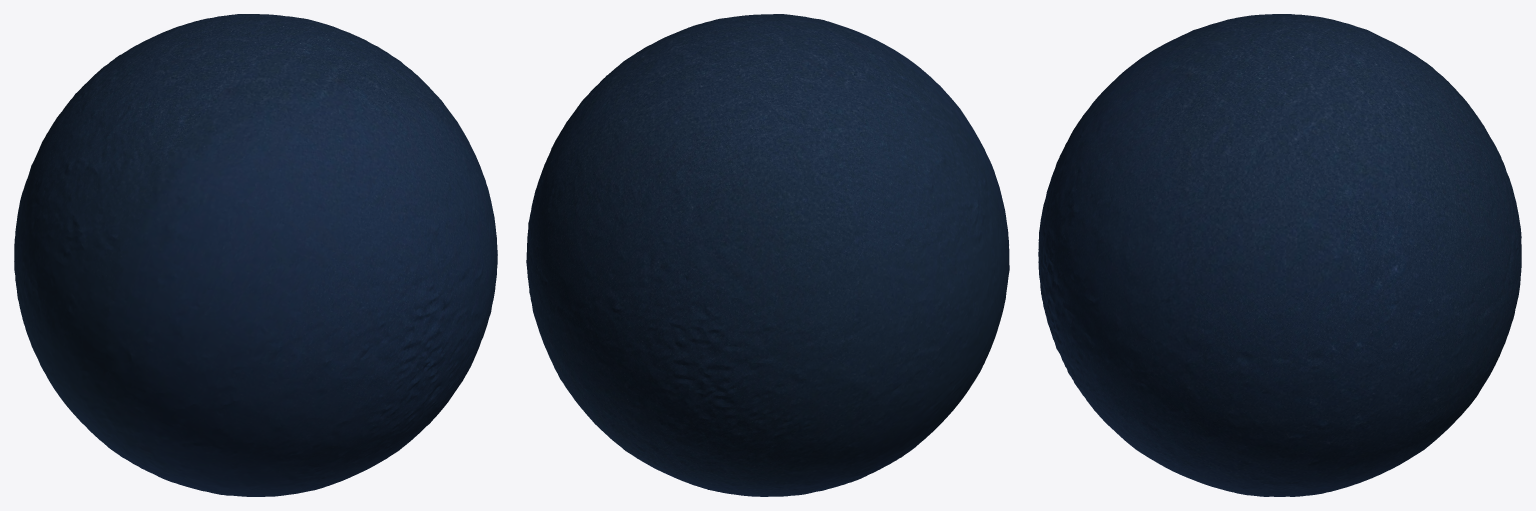
Rendered from project-asteroid-1.glb.
3 views of the same model, side by side, from view 1: azimuth 30°, elevation 25°; view 2: azimuth 150°, elevation 25°; view 3: azimuth 270°, elevation 25° (orthographic).
Bounding box in the file's own units: 1.9 × 1.9 × 1.9.
Materials: 1 (1 with a texture image).
